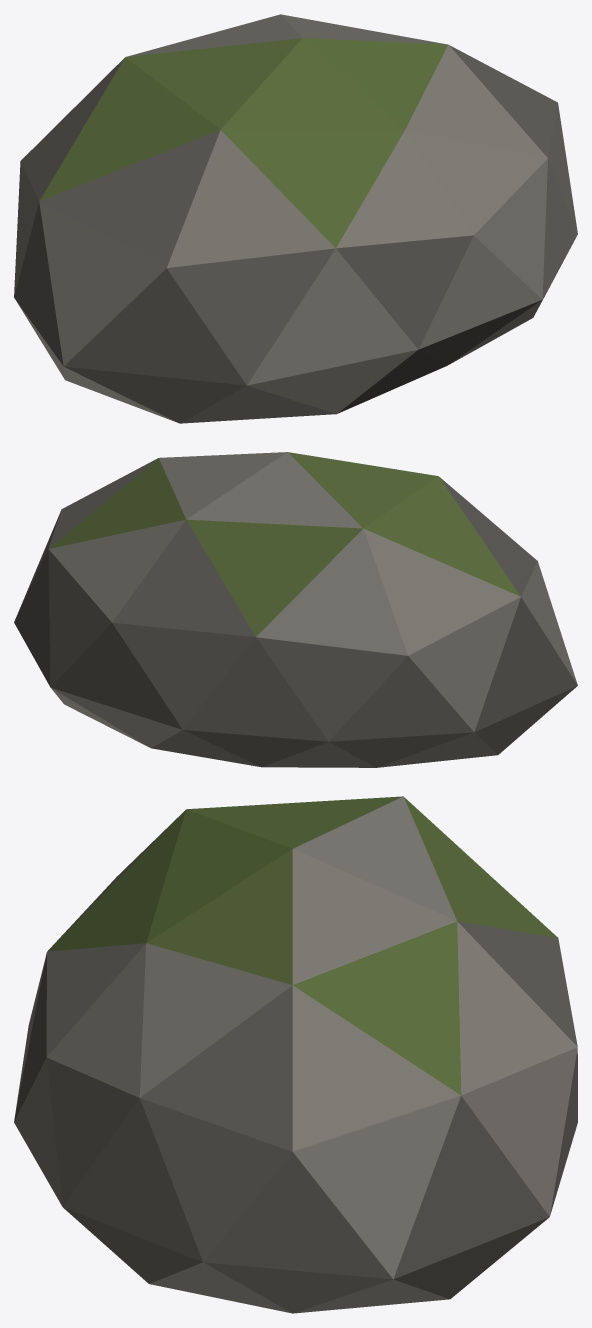
The model's file is rock_small.glb.
3 views of the same model, one above another, from view 1: azimuth 30°, elevation 25°; view 2: azimuth 150°, elevation 25°; view 3: azimuth 270°, elevation 25° (orthographic). The views are drawn at different scales.
Visible parts, largest first — view 1: rock_small; view 2: rock_small; view 3: rock_small.
Part boxes in pixels (x1,y1,x2,y2): rock_small: (14,14,577,423); rock_small: (14,452,577,767); rock_small: (14,796,577,1313).
Size of the model in its own units: 1.48 by 0.7809 by 1.09.
